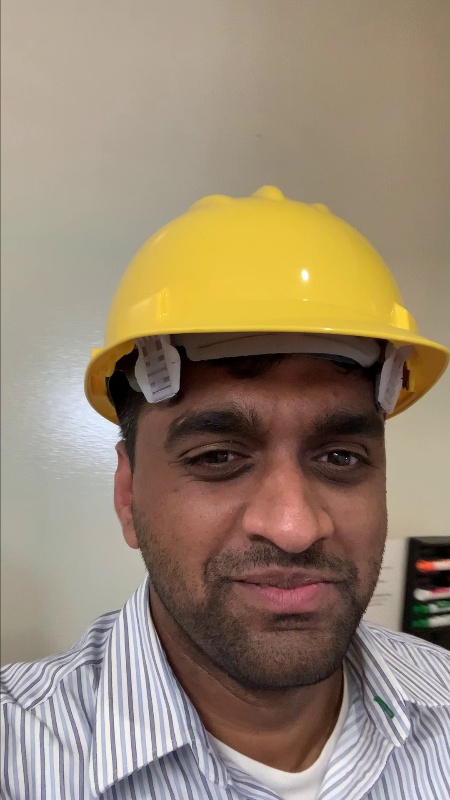helmet: (78, 182, 446, 416)
